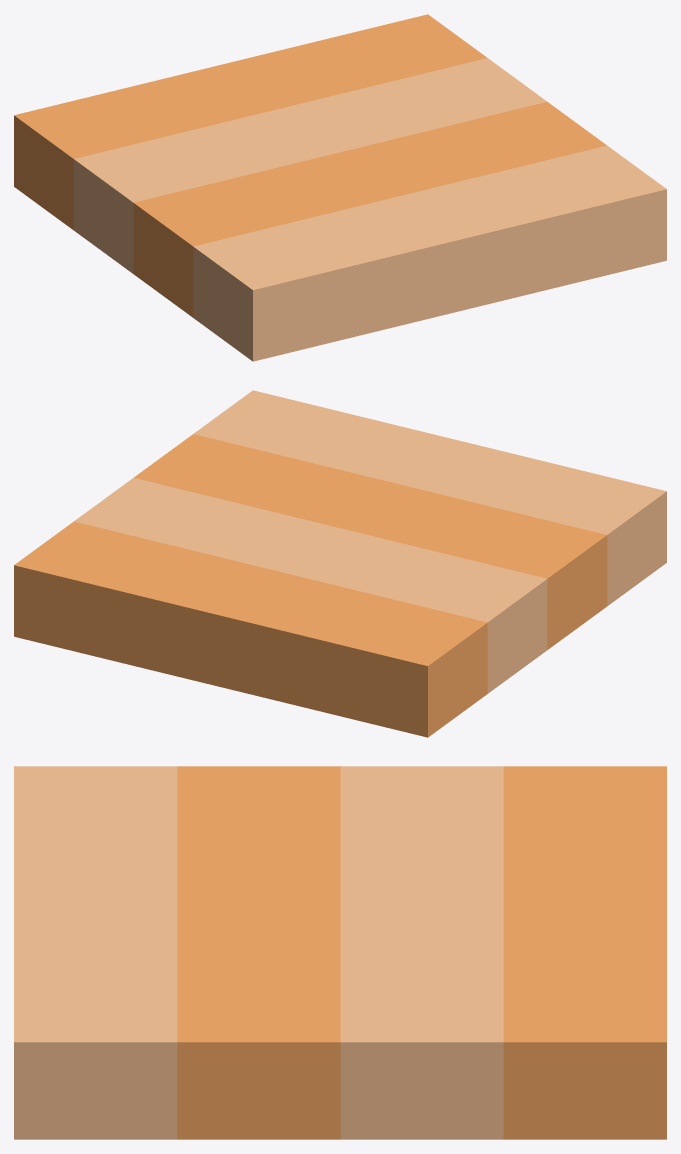
The picture shows the model from 3 angles, top to bottom: view 1: azimuth 30°, elevation 25°; view 2: azimuth 150°, elevation 25°; view 3: azimuth 270°, elevation 25°; orthographic projection. The views are drawn at different scales.
Visible parts, largest first — view 1: Link A; view 2: Link A; view 3: Link A.
Part boxes in pixels (bbox=[...]): Link A: bbox=[14, 14, 666, 361]; Link A: bbox=[14, 390, 666, 737]; Link A: bbox=[14, 766, 666, 1139].
Bounding box in the file's own units: 300 × 49.49 × 300.
